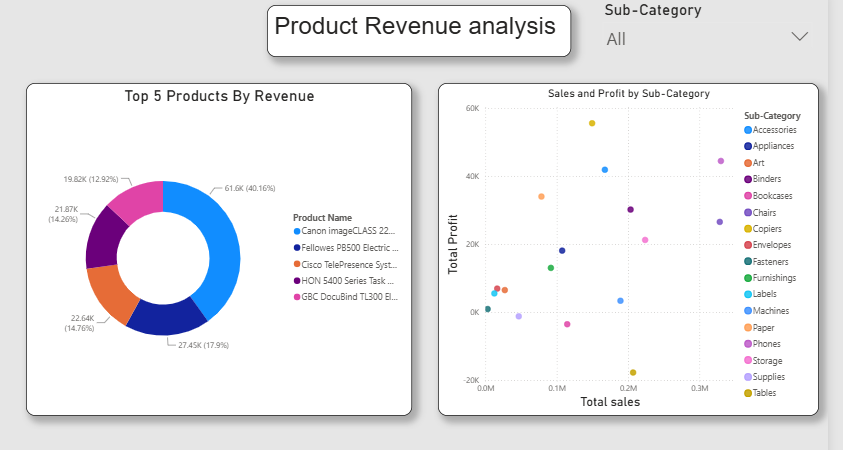

This screenshot's page, from the dashboard's own definition file:
{"tool":"powerbi","page":{"name":"Product Revenue analysis","canvas":[1280,720],"ordinal":1},"visuals":[{"type":"textbox","box":[416.9,15.4,467.7,80],"z":0},{"type":"donutChart","title":"Top 5 Products By Revenue","fields":{"Category":["Sample - Superstore.Product Name"],"Y":["Sum(Sample - Superstore.Sales)"]},"box":[46.2,135.4,593.8,512.3],"z":1000},{"type":"scatterChart","title":"Sales and  Profit by Sub-Category ","fields":{"Category":["Sample - Superstore.Sub-Category"],"X":["Sum(Sample - Superstore.Sales)"],"Y":["Sum(Sample - Superstore.Profit)"],"Series":["Sample - Superstore.Sub-Category"]},"box":[680,135.4,586.2,512.3],"z":2000},{"type":"slicer","fields":{"Values":["Sample - Superstore.Sub-Category"]},"box":[923.1,3.1,343.1,76.9],"z":3000}]}

Visuals, with their boxes in screenshot pixels (x1, y1, x2, y2):
textbox: <box>269,8,568,59</box>
"Top 5 Products By Revenue" donutChart: <box>32,84,411,412</box>
"Sales and  Profit by Sub-Category " scatterChart: <box>437,84,811,412</box>
slicer - Sample - Superstore.Sub-Category: <box>592,0,811,49</box>
